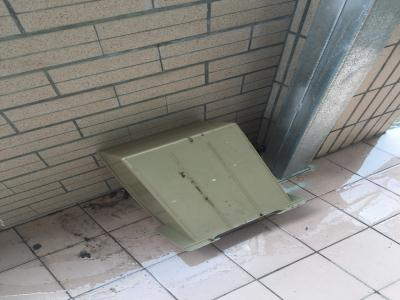box: (93, 113, 303, 257)
